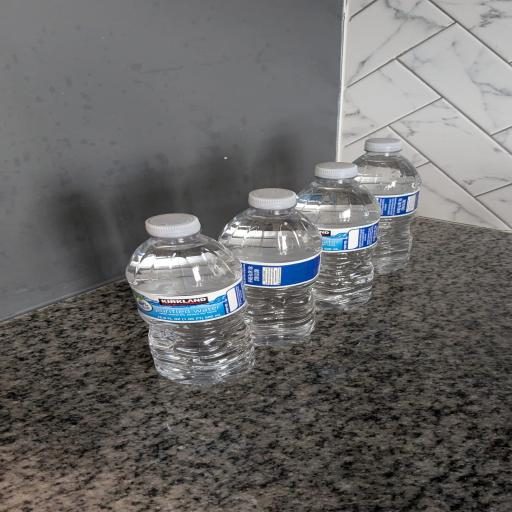waterbottle: (126, 214, 254, 384), (220, 189, 321, 345), (296, 163, 380, 311), (354, 138, 421, 274)
